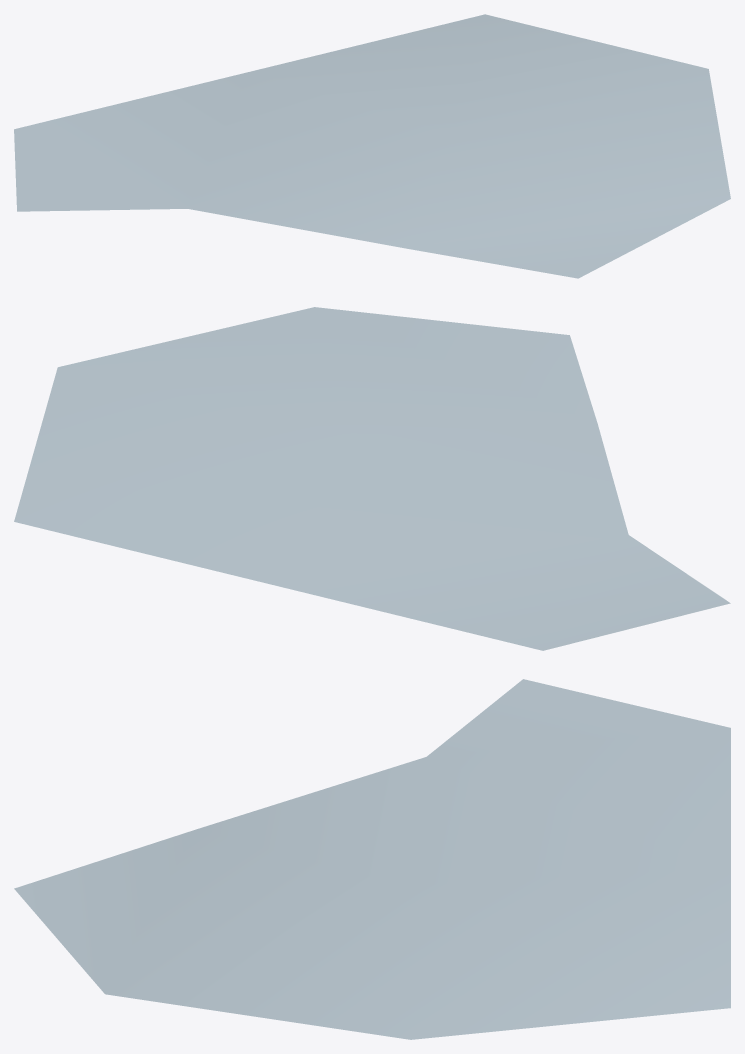
The model's file is suelo_nieve_p2.fbx.
The picture shows the model from 3 angles, top to bottom: view 1: azimuth 30°, elevation 25°; view 2: azimuth 150°, elevation 25°; view 3: azimuth 270°, elevation 25°; orthographic projection. The views are drawn at different scales.
Parts seen in each view (by area): view 1: Cylinder004; view 2: Cylinder004; view 3: Cylinder004.
Boxes of the visible parts, x1,y1,x2,y2 form: Cylinder004: [14, 14, 730, 278]; Cylinder004: [14, 307, 730, 650]; Cylinder004: [14, 679, 730, 1039].
Bounding box in the file's own units: 59.59 × 1.68 × 47.02.
